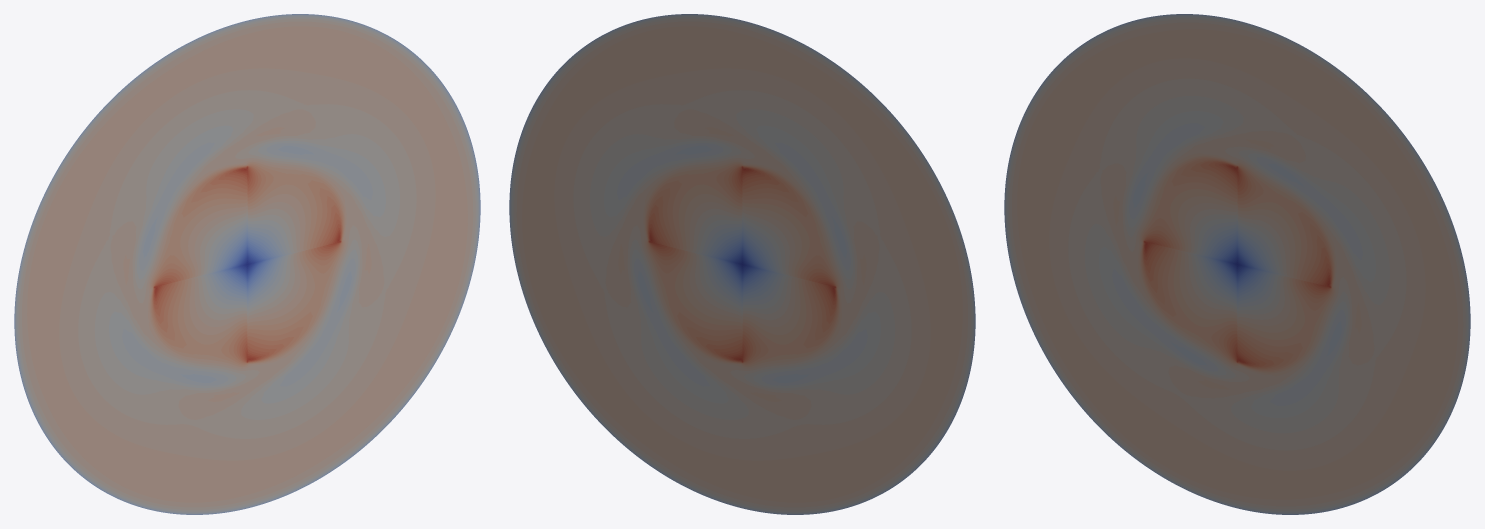
3 renders of one model, left to right at view 1: azimuth 30°, elevation 25°; view 2: azimuth 150°, elevation 25°; view 3: azimuth 330°, elevation 25°, orthographic.
Visible parts, largest first — view 1: Shape_IndexedFaceSet.006; view 2: Shape_IndexedFaceSet.006; view 3: Shape_IndexedFaceSet.006.
Boxes of the visible parts, <box> form: Shape_IndexedFaceSet.006: <box>14,14,480,514</box>; Shape_IndexedFaceSet.006: <box>509,14,975,514</box>; Shape_IndexedFaceSet.006: <box>1004,14,1470,514</box>.
Size of the model in its own units: 100 by 100 by 2.22e-05.
